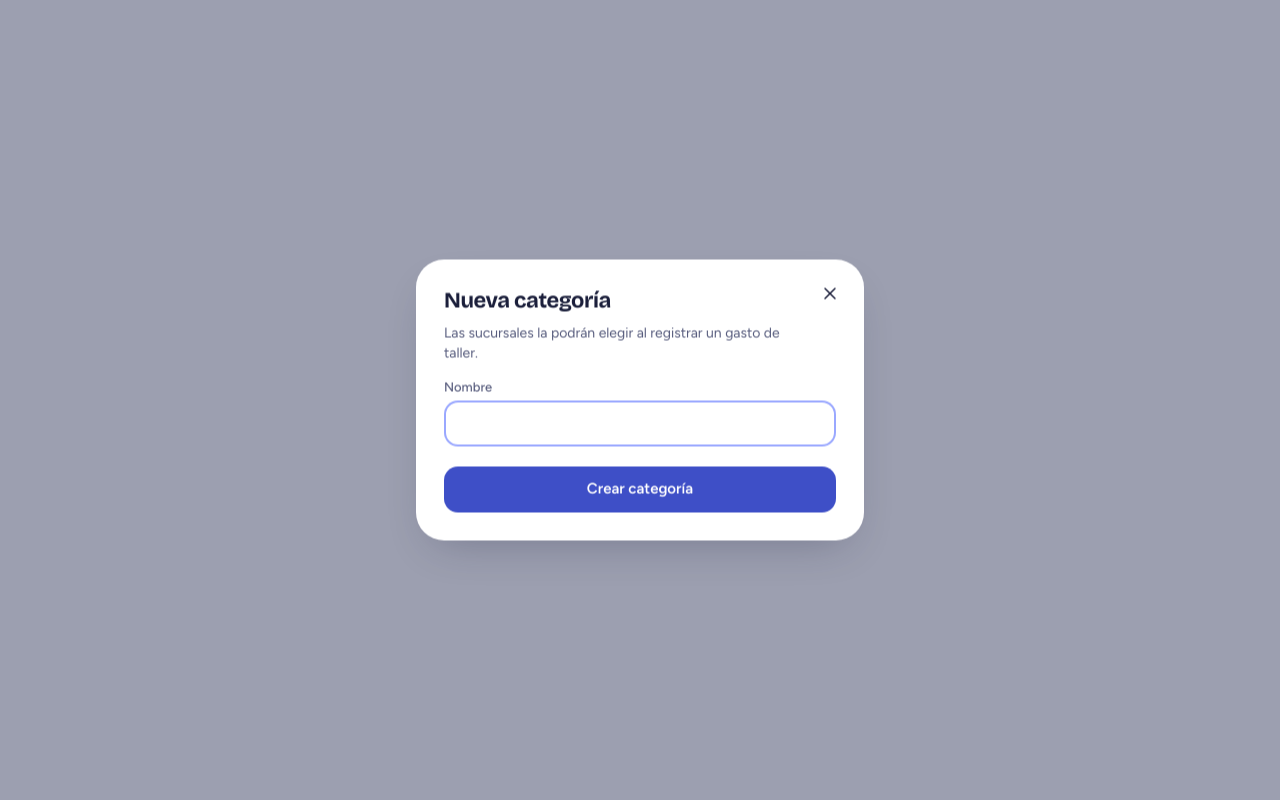
Test case: creating a category › shows a repeated name next to the field and focuses it
The width and height of the screenshot is (1280, 800).
Type "Motor" into the field labelled "Nombre" at point(640, 424), box [444,400,836,446]
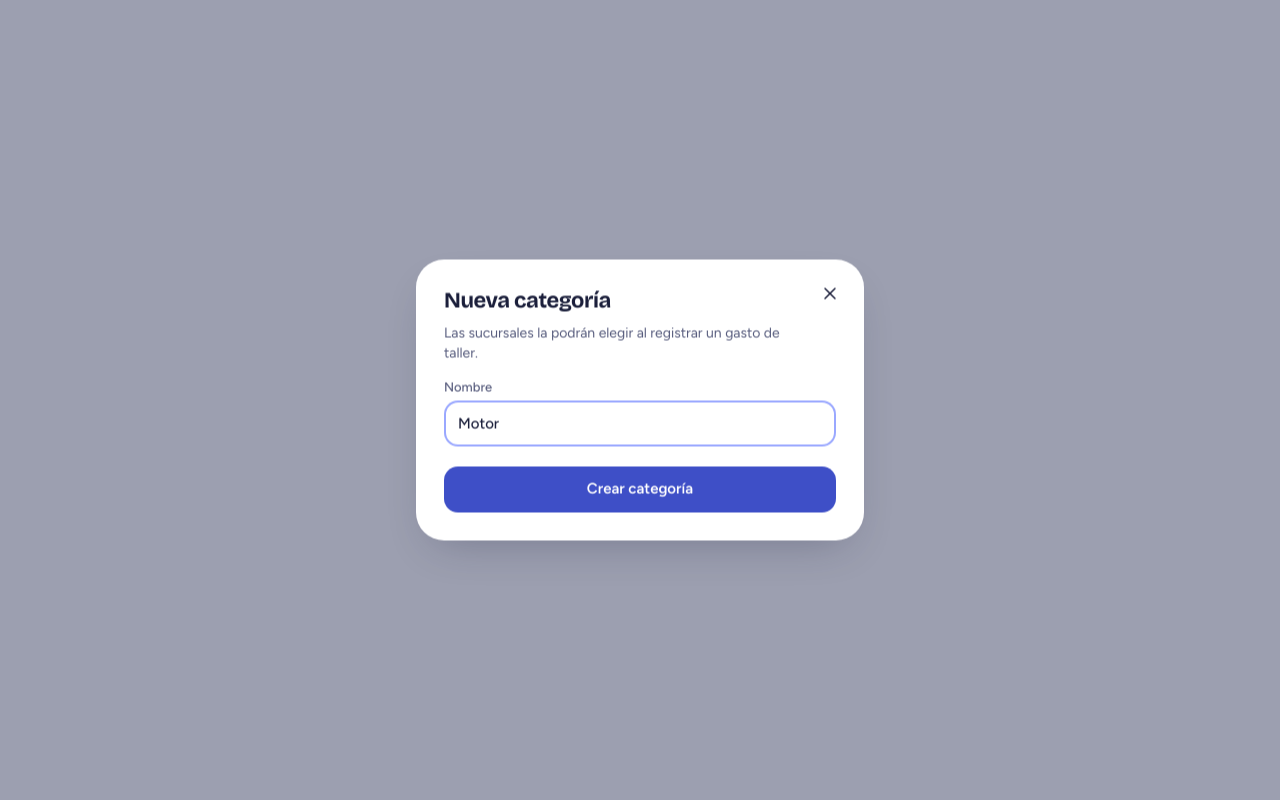
Click the button "Crear categoría" at point(640, 490), box [444,466,836,512]
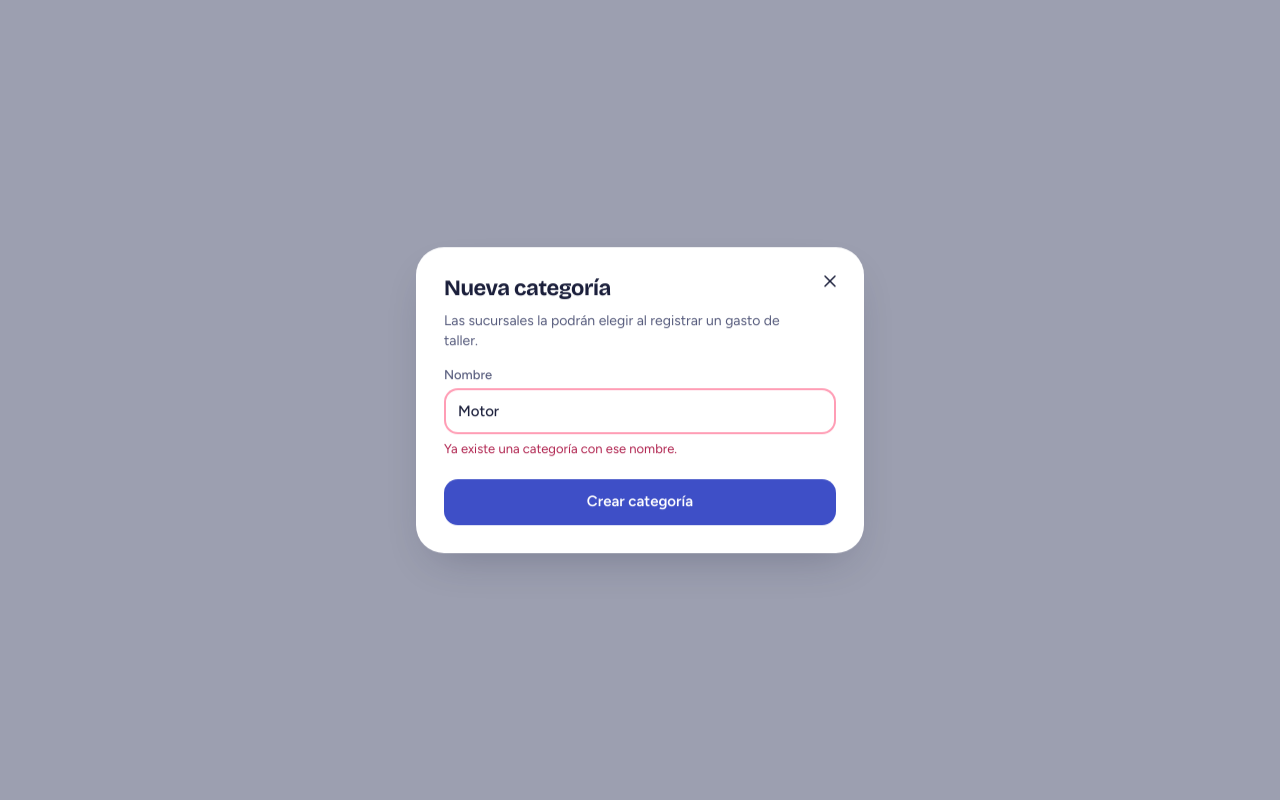
Expected: the text "Ya existe una categoría con ese nombre." is shown, [444,441,677,456]
